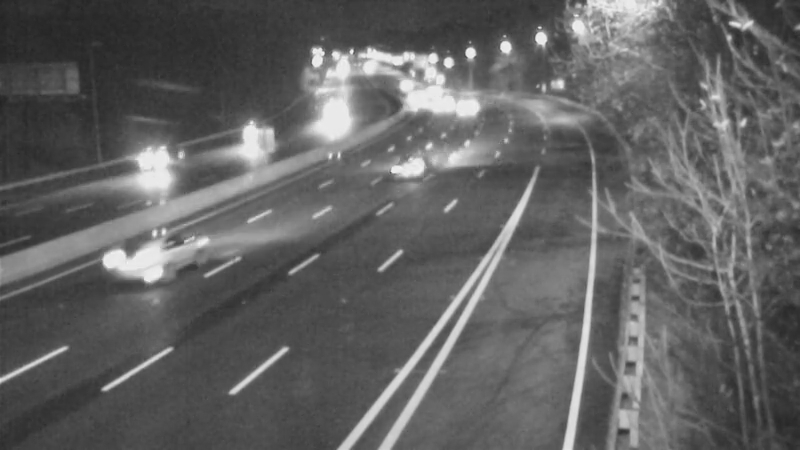vehicle: (378, 128, 458, 208), (104, 221, 184, 301), (113, 111, 193, 191), (406, 77, 456, 127), (435, 82, 485, 132), (218, 122, 268, 172), (302, 90, 352, 140)
